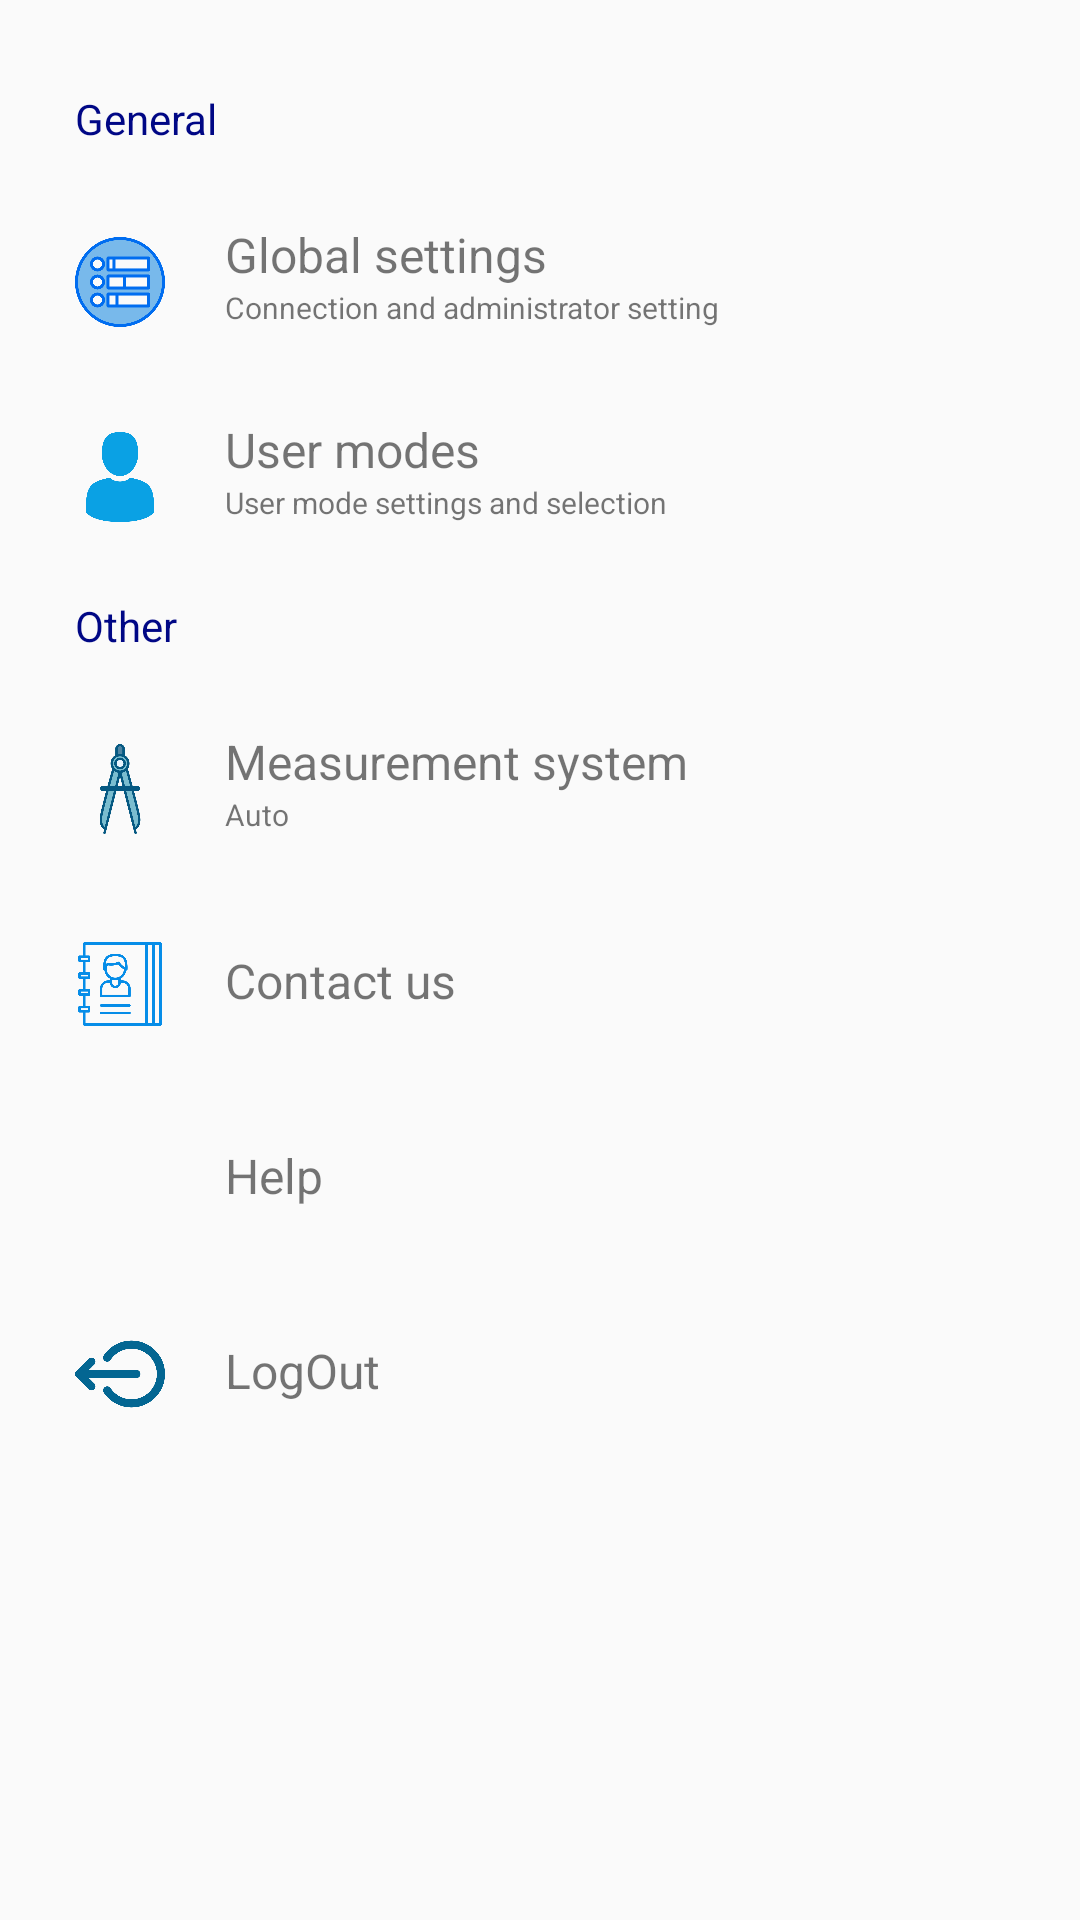

Named icons in this screenshot (1080×1920) and their bounding boxes, [x1,y1,x2,y2]:
compass system: [100,744,141,834]
contacts: [78,942,162,1026]
man user: [86,432,154,522]
